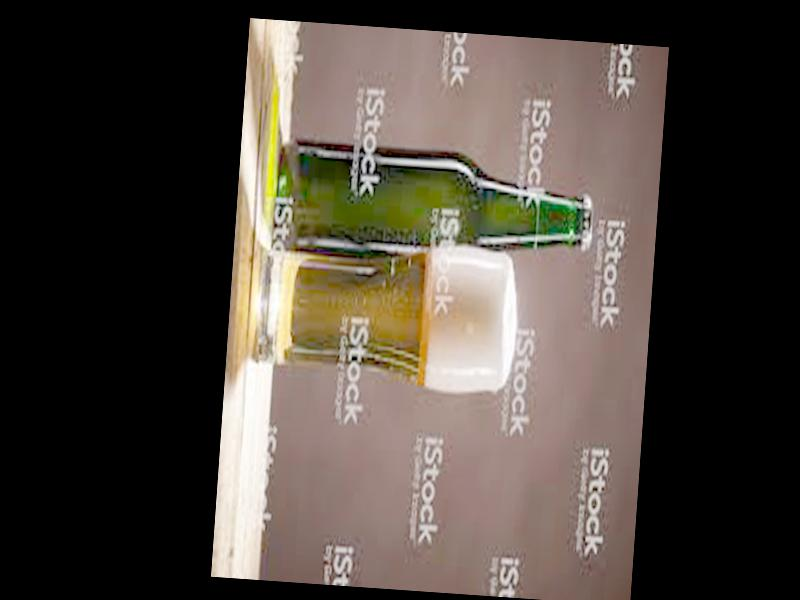Beer: (270, 137, 596, 275)
